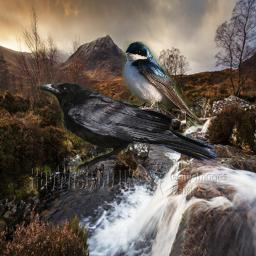Crow: (36, 81, 218, 174)
Swallow: (122, 41, 203, 132)
